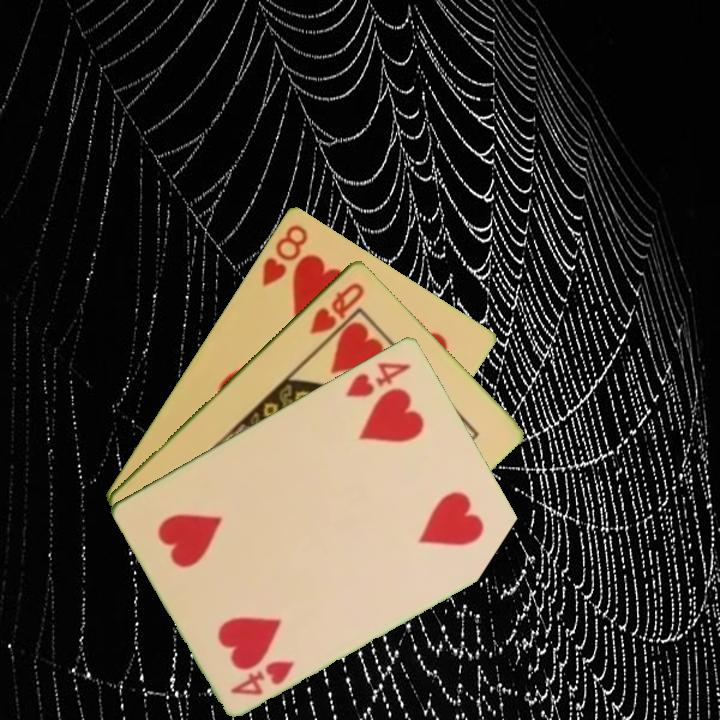4h: (342, 357, 415, 400), (226, 656, 297, 698)
8h: (258, 220, 311, 289)
Qh: (306, 278, 368, 337)
